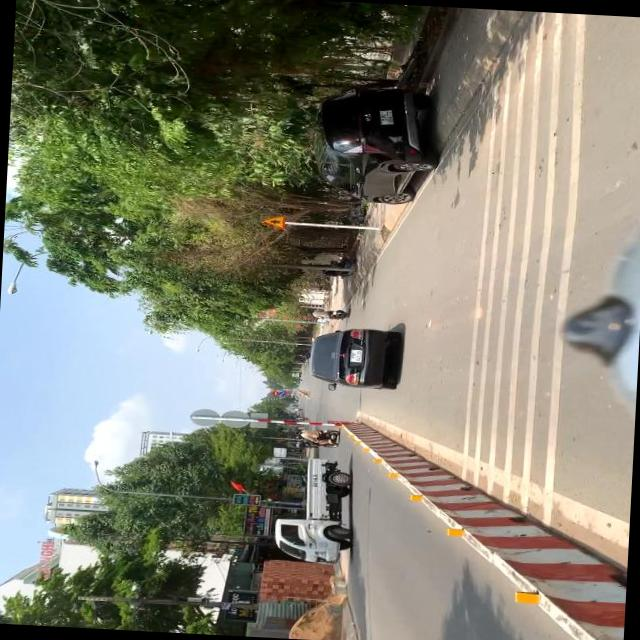W-207a: (258, 212, 288, 230)
